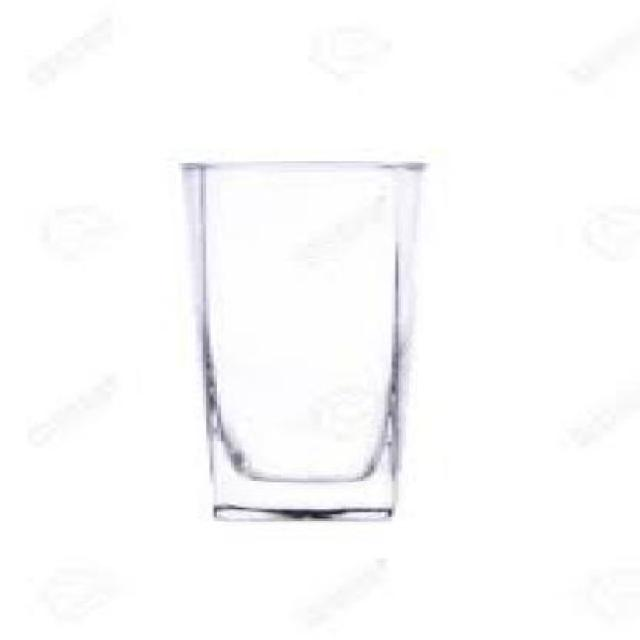kaca: (178, 162, 420, 520)
